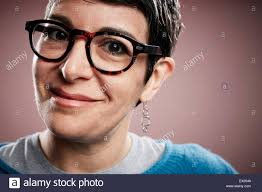Glasses: (22, 17, 150, 74)
